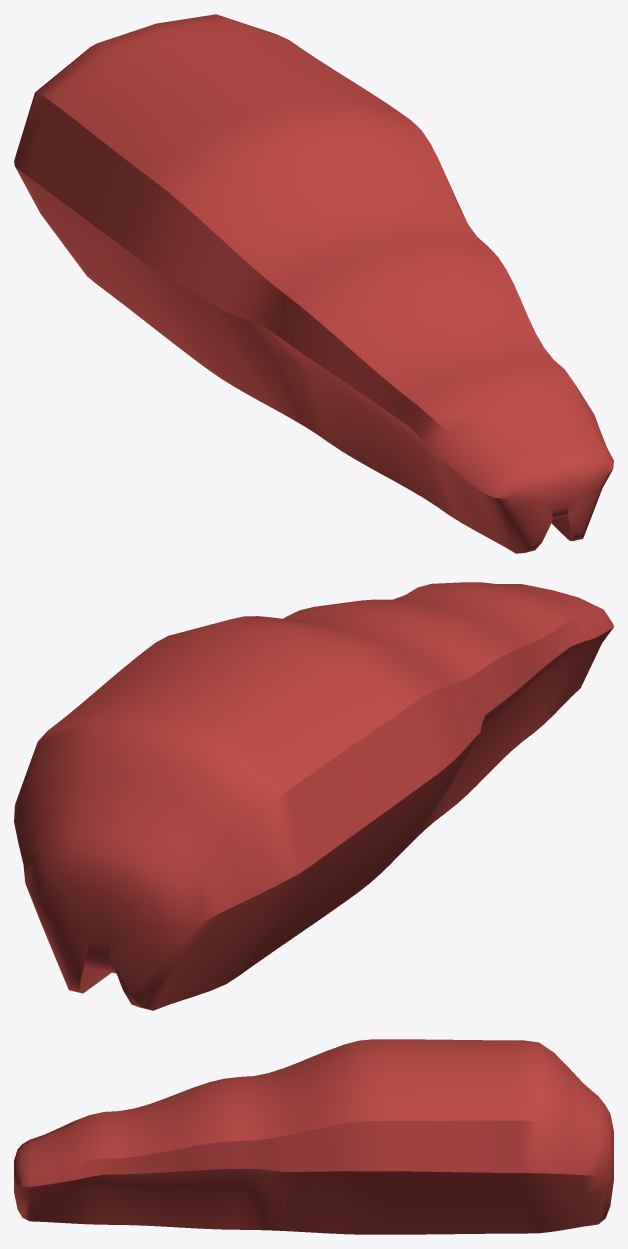
Rendered from wedge.glb.
The picture shows the model from 3 angles, top to bottom: view 1: azimuth 30°, elevation 25°; view 2: azimuth 150°, elevation 25°; view 3: azimuth 270°, elevation 25°; orthographic projection. The views are drawn at different scales.
Parts seen in each view (by area): view 1: lod0; view 2: lod0; view 3: lod0.
Boxes of the visible parts, <box> form: lod0: <box>14,14,613,553</box>; lod0: <box>14,582,613,1010</box>; lod0: <box>14,1039,613,1234</box>.
Size of what is drawn, in the model's own units: 0.38 by 0.285 by 1.
